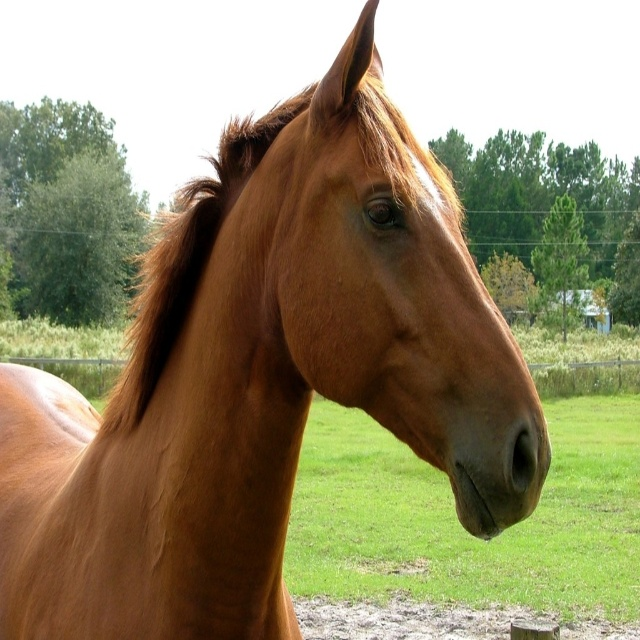Horse: (1, 0, 552, 639)
